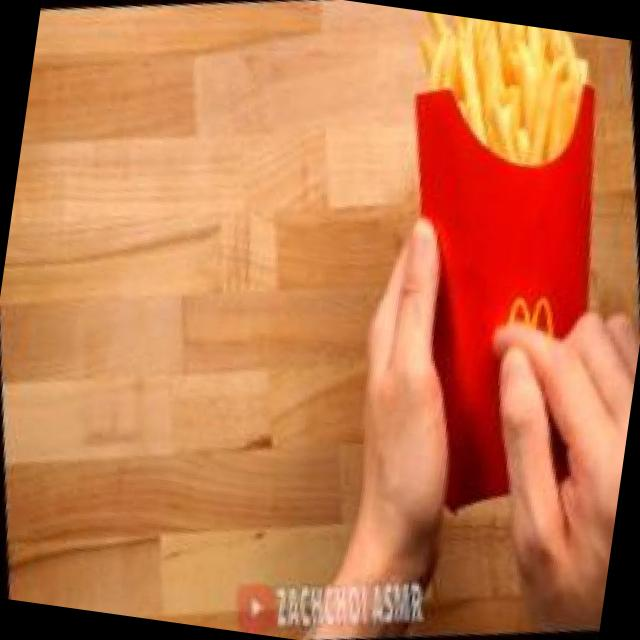french fries: (380, 9, 620, 208)
